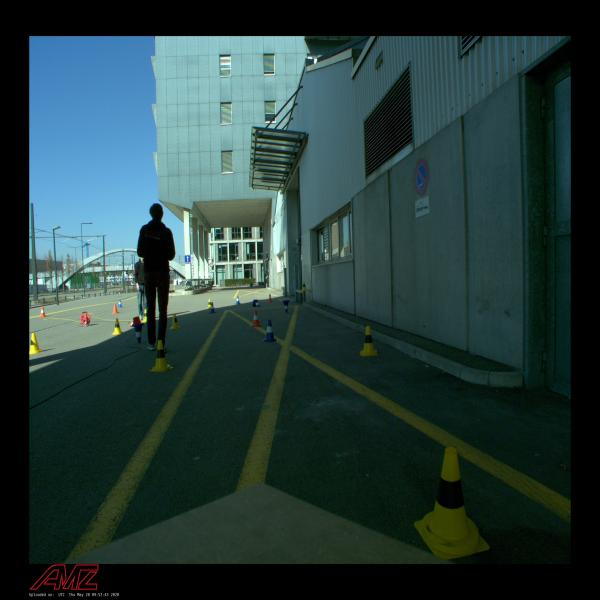blue_cone: (262, 320, 279, 342), (132, 323, 145, 343), (283, 300, 290, 313), (209, 302, 216, 314), (252, 299, 260, 307), (118, 300, 123, 308), (236, 296, 240, 305)
orange_cone: (250, 310, 262, 327), (129, 316, 141, 327), (39, 307, 46, 317), (112, 304, 119, 314), (268, 294, 272, 302)
yellow_cone: (413, 446, 490, 558), (149, 340, 174, 372), (360, 326, 378, 357), (29, 333, 43, 354), (112, 318, 124, 334), (170, 314, 181, 329), (142, 309, 148, 322), (301, 281, 307, 291), (207, 299, 213, 309)
